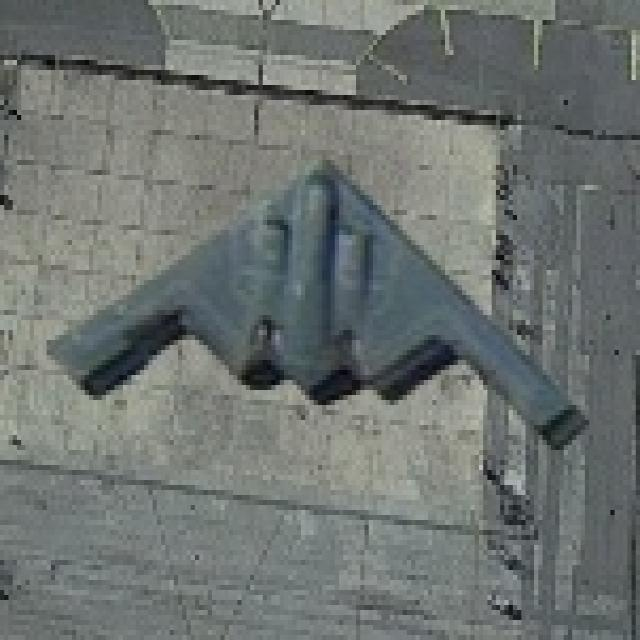B-2_TopDown: (42, 145, 590, 455)
